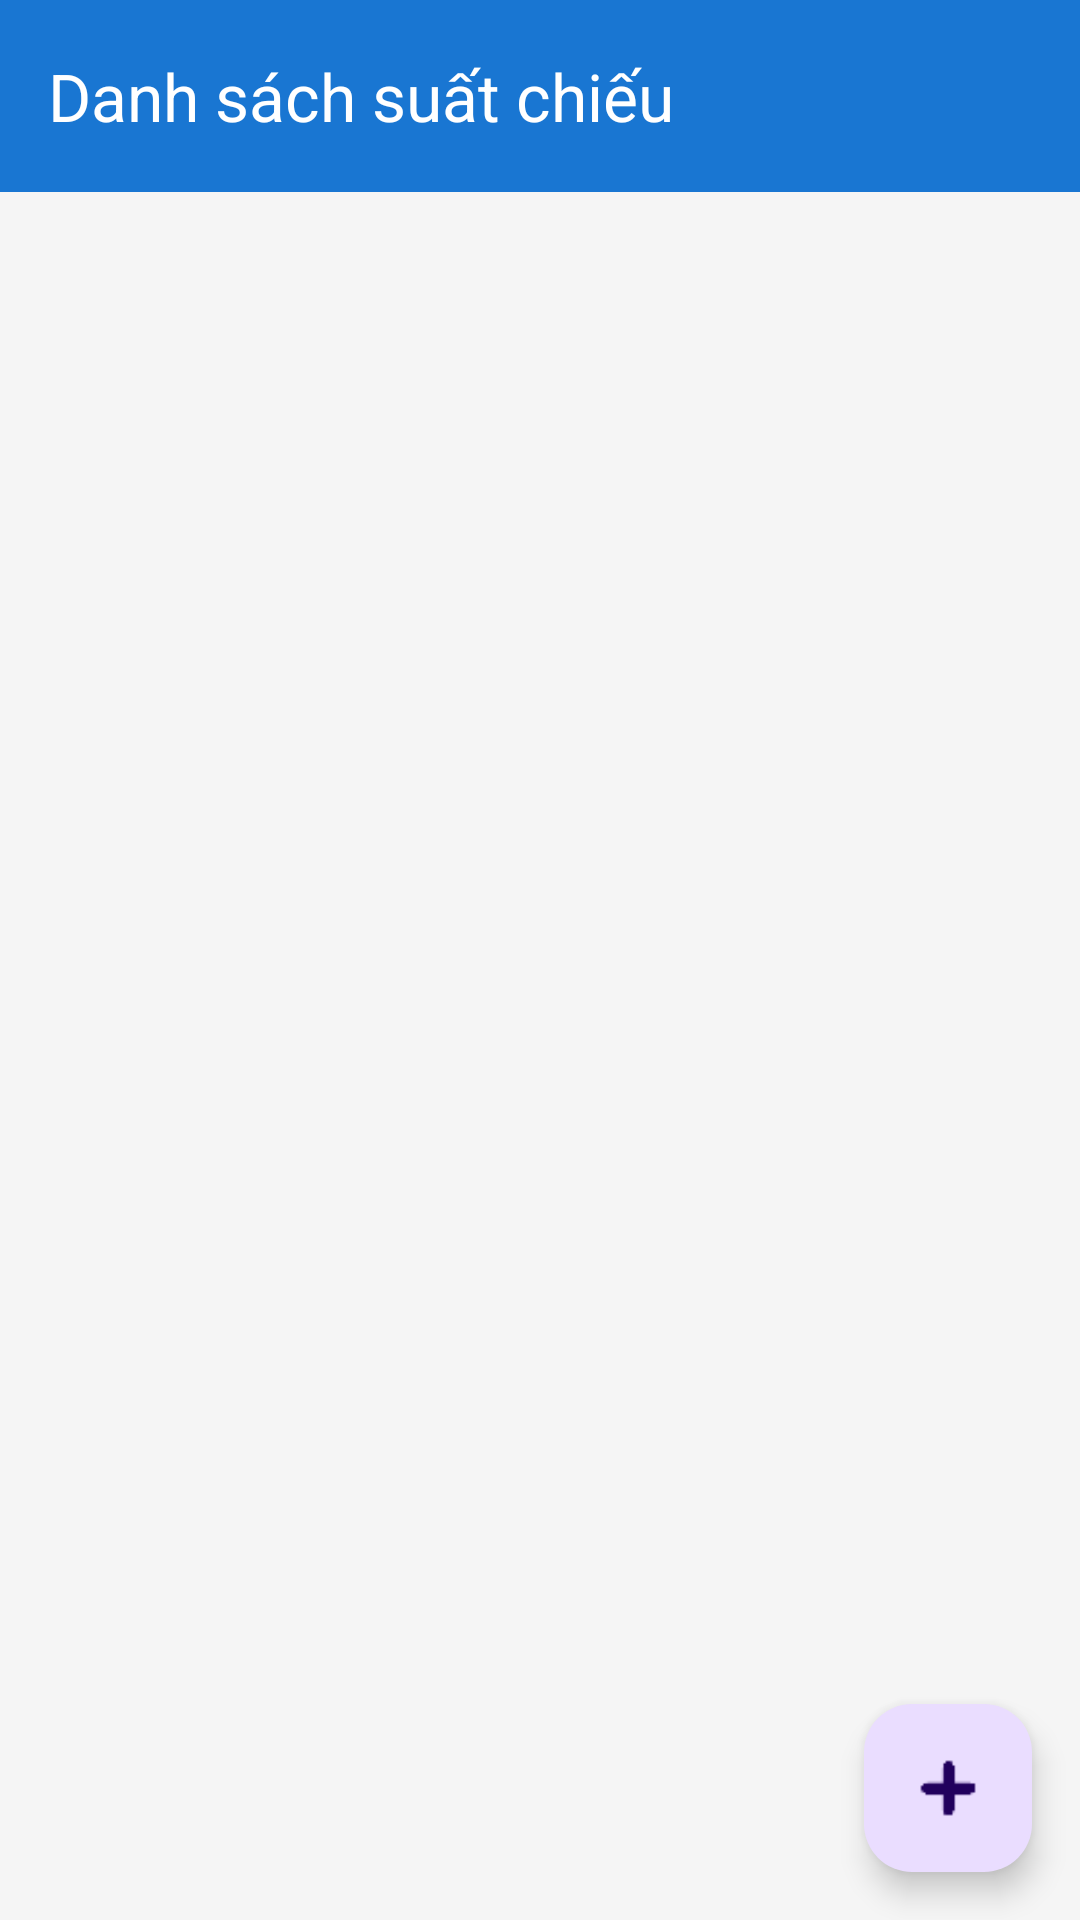

Screen size 1080 × 1920. Icon name, then its box in pixels as (x1, y1, x2, y2):
Thêm suất chiếu: (864, 1704, 1032, 1872)
